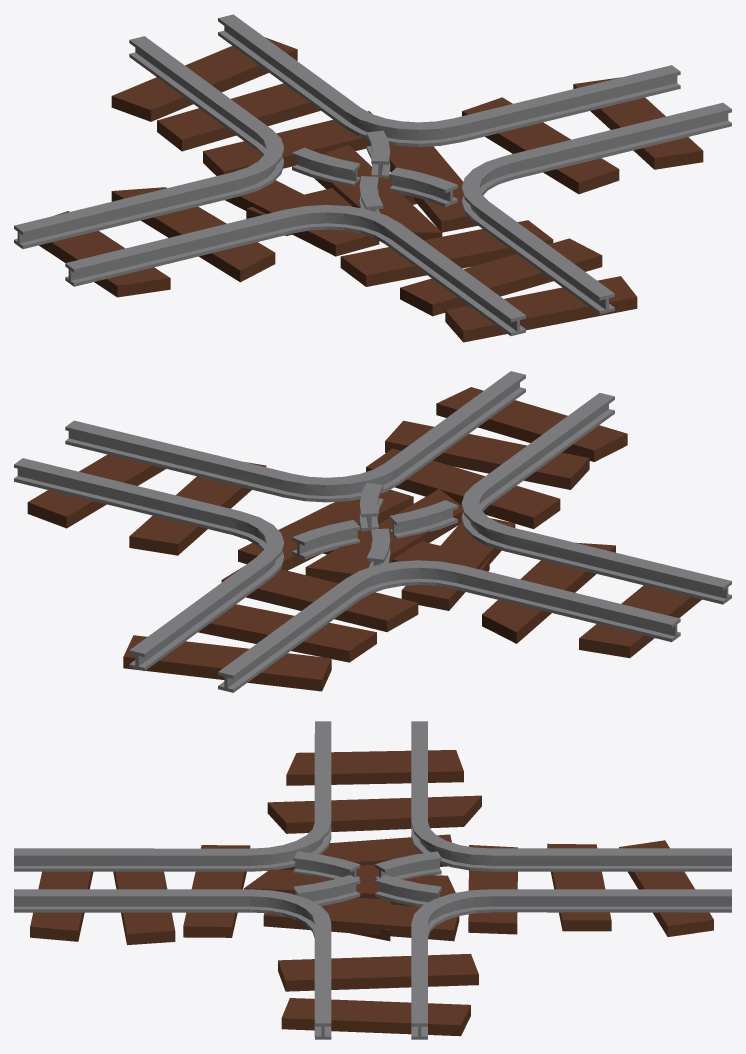
File: rail_cross_1.fbx
3 renders of one model, top to bottom at view 1: azimuth 30°, elevation 25°; view 2: azimuth 150°, elevation 25°; view 3: azimuth 270°, elevation 25°, orthographic. The views are drawn at different scales.
Parts seen in each view (by area): view 1: rail071, planks014; view 2: rail071, planks014; view 3: rail071, planks014.
Boxes of the visible parts, x1,y1,x2,y2 form: rail071: (14,14,731,335); planks014: (39,37,703,342); rail071: (14,371,731,692); planks014: (27,387,701,691); rail071: (14,721,731,1039); planks014: (30,750,713,1036).
Bounding box in the file's own units: 117 × 5.57 × 117.
